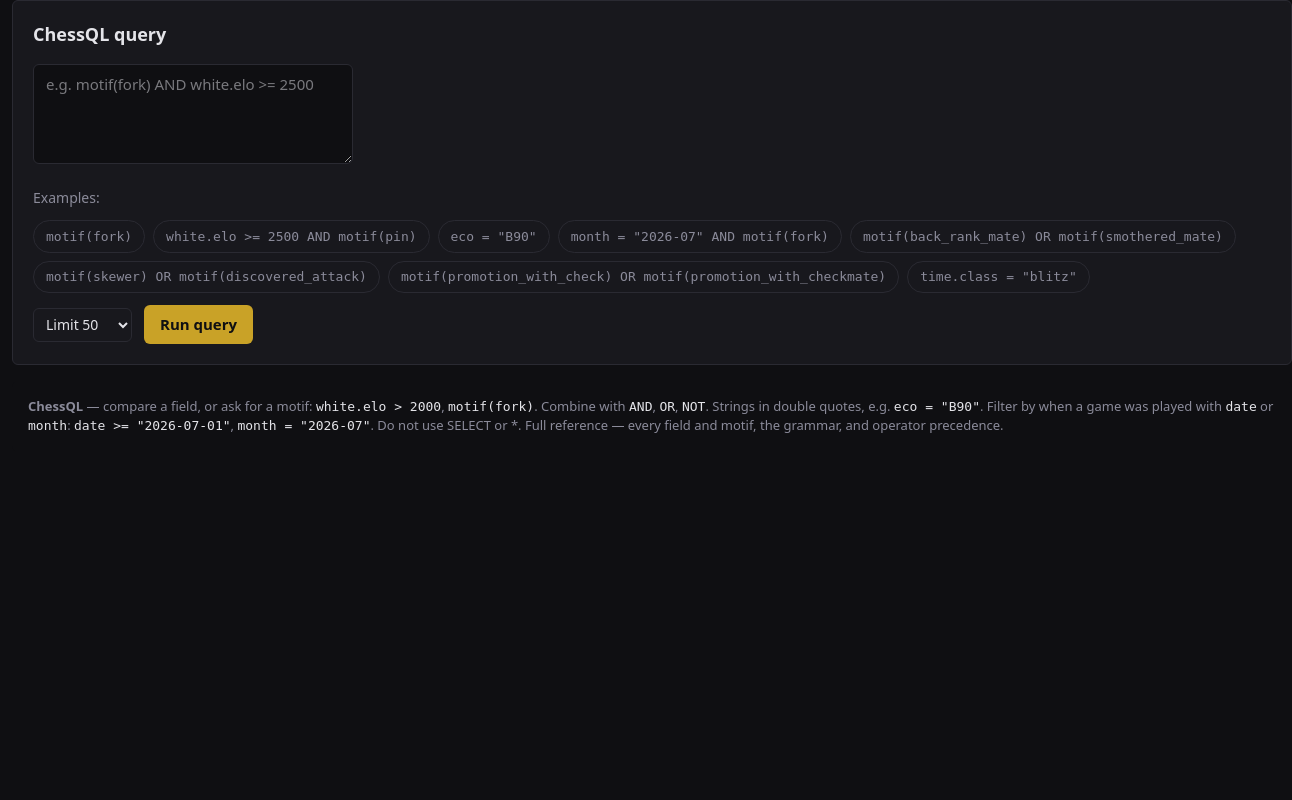
it: QueryView › renders results table when query returns games
Type "motif(fork)" into the text box with placeholder "e.g. motif(fork) AND white.elo >= 2500" at (193, 114), box [33,64,353,164]
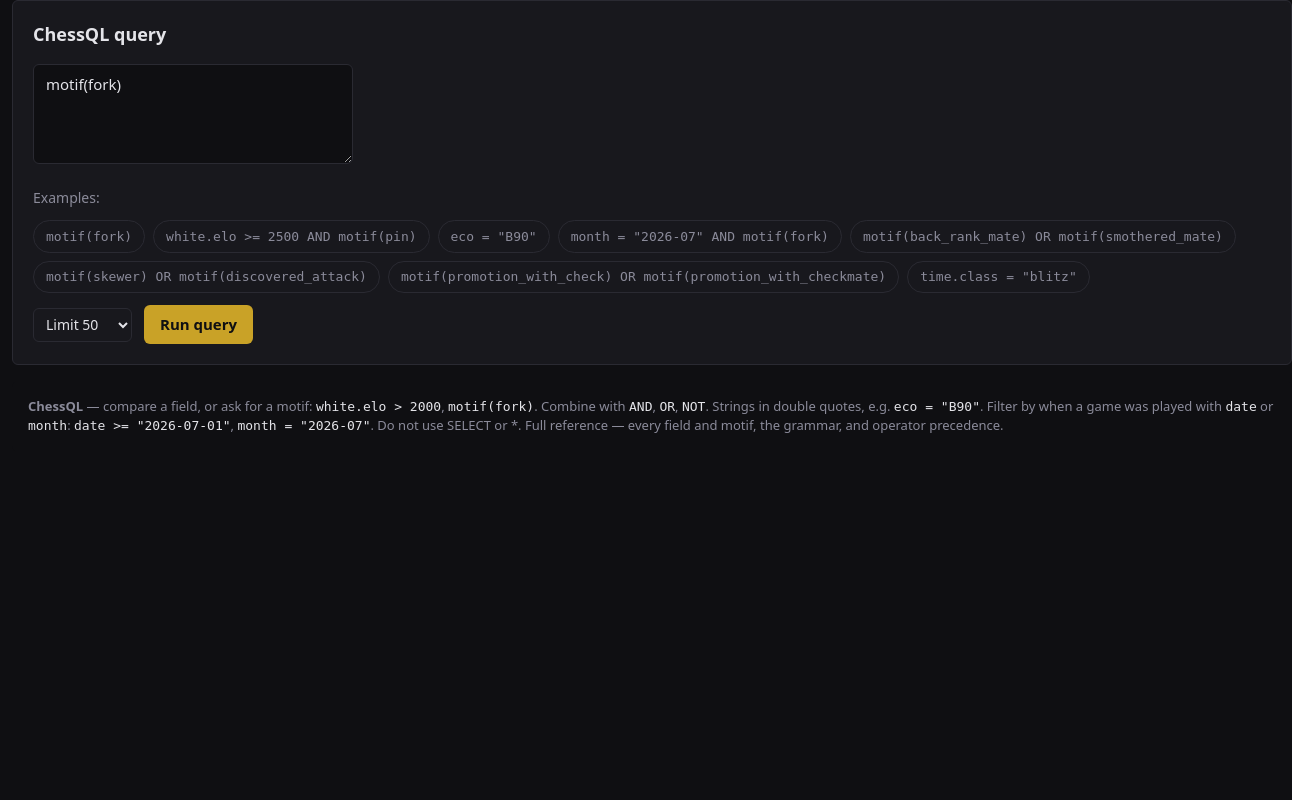
Click the button "Run query" at (199, 325), box [144,305,253,344]
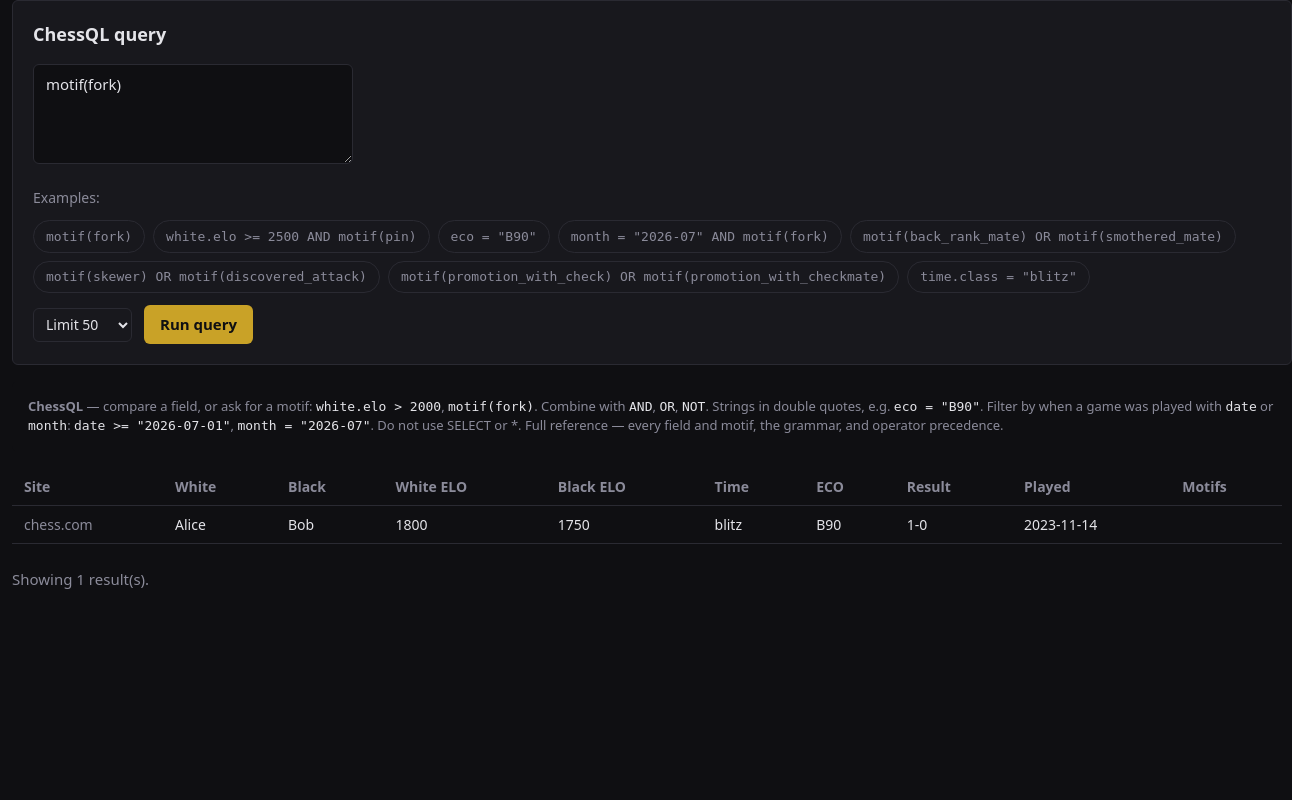
Check: the text "Showing 1 result(s)." is shown, box [12,569,149,589]
Check: the button "Alice" is shown, box [175,514,206,535]
